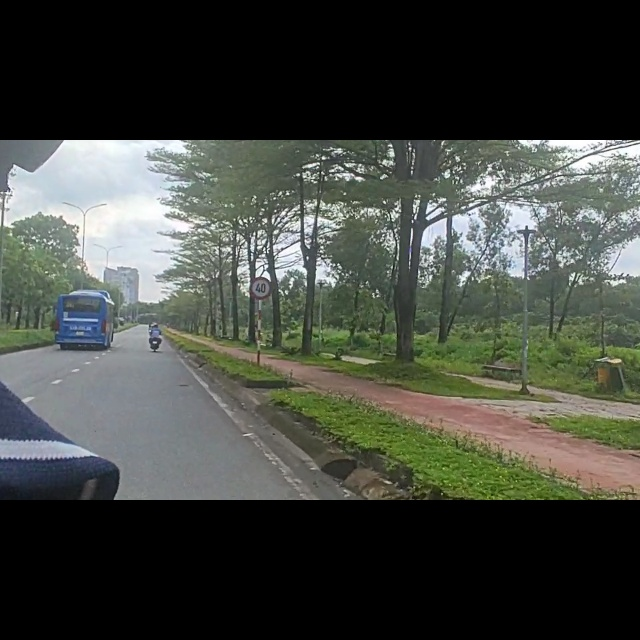Tốc độ tối đa cho phép 40km/h: (250, 278, 271, 299)
